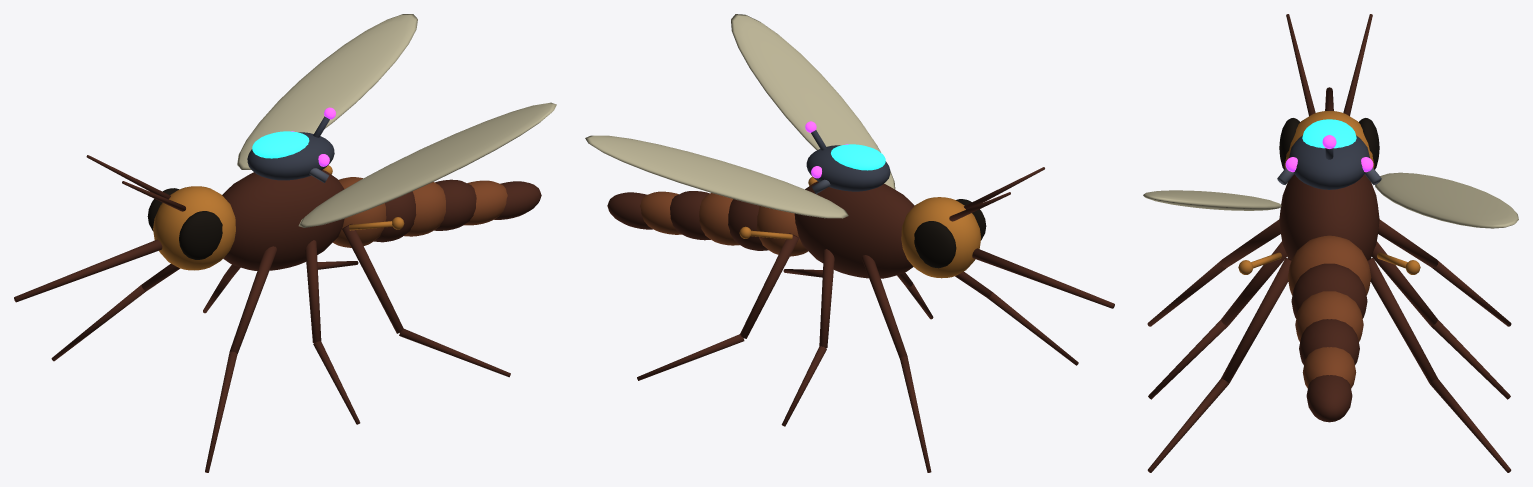
The model's file is controlled_mosquito.glb.
The picture shows the model from 3 angles, left to right: view 1: azimuth 30°, elevation 25°; view 2: azimuth 150°, elevation 25°; view 3: azimuth 270°, elevation 25°; orthographic projection. The views are drawn at different scales.
Parts seen in each view (by area): view 1: Wing_R, Thorax, Wing_L, Head, ControlShell, Eye, Abdomen_03, Abdomen_02, Proboscis, Abdomen_04, Leg_-1_2_Upper, Abdomen_00 (+9 smaller); view 2: Wing_L, Thorax, Wing_R, Head, ControlShell, Eye.001, Abdomen_02, Abdomen_00, Abdomen_03, Proboscis, Abdomen_01, Abdomen_04 (+9 smaller); view 3: Thorax, Wing_R, ControlShell, Abdomen_00, Abdomen_01, Wing_L, Abdomen_02, Abdomen_05, Abdomen_03, Leg_1_2_Upper, Leg_-1_2_Upper, Abdomen_04 (+16 smaller).
Boxes of the visible parts, x1,y1,x2,y2 form: Wing_R: (237,14,417,169); Thorax: (222,170,344,270); Wing_L: (298,102,556,227); Head: (153,186,235,270); ControlShell: (247,132,334,180); Eye: (179,211,222,259); Abdomen_03: (434,179,476,230); Abdomen_02: (404,182,445,236); Proboscis: (14,239,162,302); Abdomen_04: (464,180,507,225); Leg_-1_2_Upper: (342,223,403,333); Abdomen_00: (333,177,386,247); Wing_L: (731,14,895,189); Thorax: (794,181,914,278); Wing_R: (585,135,848,218); Head: (901,197,981,278); ControlShell: (806,145,890,191); Eye.001: (914,221,956,268); Abdomen_02: (699,193,739,245); Abdomen_00: (756,206,807,256); Abdomen_03: (670,191,710,240); Proboscis: (972,248,1114,308); Abdomen_01: (728,199,768,250); Abdomen_04: (640,191,681,234); Thorax: (1279,174,1379,259); Wing_R: (1375,172,1518,228); ControlShell: (1289,135,1369,189); Abdomen_00: (1287,235,1371,295); Abdomen_01: (1291,263,1367,318); Wing_L: (1143,190,1281,210); Abdomen_02: (1295,291,1363,341); Abdomen_05: (1306,375,1352,422); Abdomen_03: (1299,319,1359,364); Leg_1_2_Upper: (1367,258,1437,383); Leg_-1_2_Upper: (1221,258,1291,383); Abdomen_04: (1302,347,1356,388).
Bounding box in the file's own units: 1.7 × 0.8674 × 0.8993.
